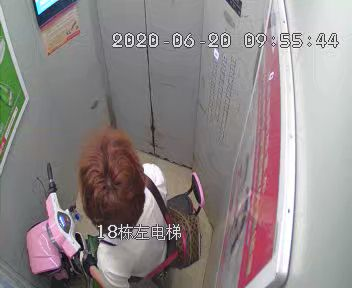Electric-bicycle: (27, 161, 205, 279)
